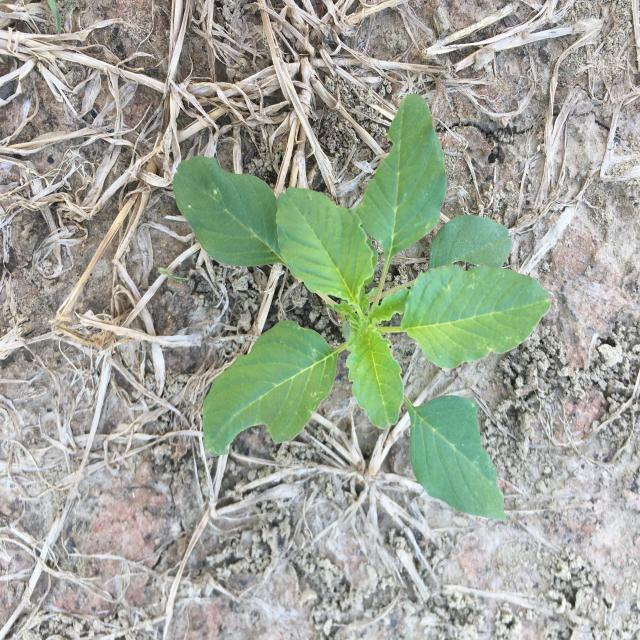PalmerAmaranth: (173, 93, 551, 523)
